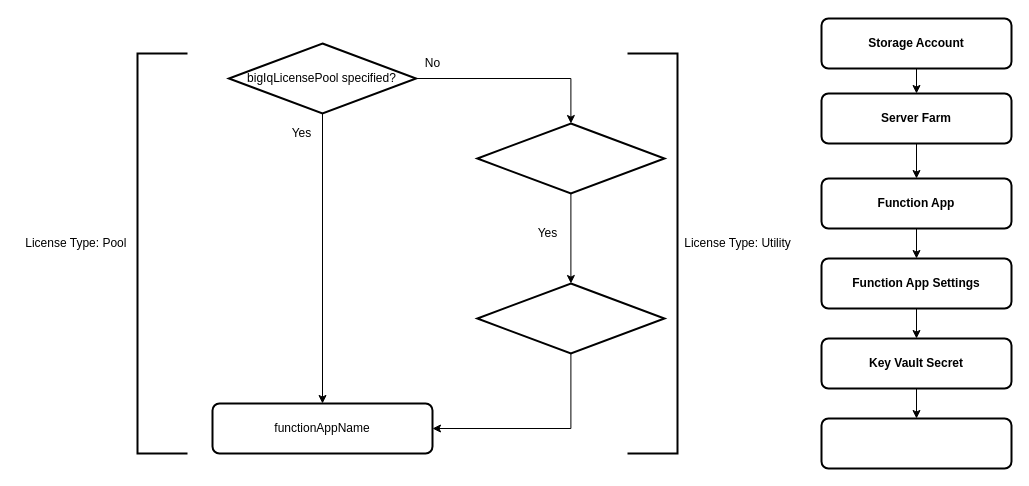
Image size: 1029x486. Some labels were removed from this diagram. The centre of each missing label's shape, as x and y in pixels:
"Application Insights" belongs at (x=916, y=443).
"bigIqUtilityKey provided? (Required)" belongs at (x=570, y=158).
"bigIqUtilityOffer provided? (Required)" belongs at (x=570, y=318).
